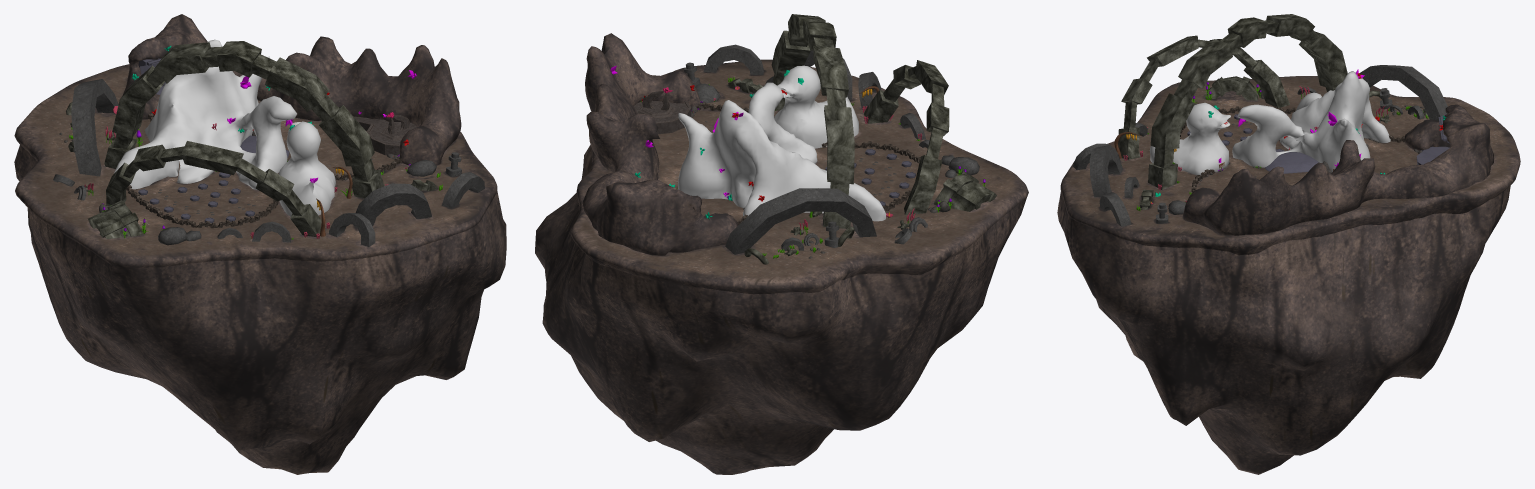
Rendered from scenaaa.fbx.
The picture shows the model from 3 angles, left to right: view 1: azimuth 30°, elevation 25°; view 2: azimuth 150°, elevation 25°; view 3: azimuth 270°, elevation 25°; orthographic projection. The views are drawn at different scales.
Parts seen in each view (by area): view 1: Plane.004, Plane.003, Cylinder.001, Duck, Mball.010, Cube.056, Circle.001, Circle.005; view 2: Plane.004, Plane.003, Cylinder.001, Mball.010, Duck, Cube.056, Circle.001, Circle.005; view 3: Plane.004, Plane.003, Cylinder.001, Mball.010, Duck, Cube.056, Circle.001, Circle.005.
Part boxes in pixels (x1,y1,x2,y2): Plane.004: (14, 145, 506, 474); Plane.003: (14, 64, 497, 268); Cylinder.001: (53, 41, 484, 247); Duck: (114, 39, 335, 216); Mball.010: (123, 14, 461, 165); Cube.056: (59, 45, 416, 228); Circle.001: (138, 58, 416, 157); Circle.005: (69, 106, 442, 239); Plane.004: (535, 145, 1027, 474); Plane.003: (570, 59, 1028, 294); Cylinder.001: (683, 14, 996, 264); Mball.010: (582, 33, 738, 255); Duck: (678, 65, 886, 221); Cube.056: (610, 65, 950, 258); Circle.001: (634, 87, 691, 134); Circle.005: (640, 77, 985, 258); Plane.004: (1057, 186, 1510, 474); Plane.003: (1060, 76, 1520, 255); Cylinder.001: (1073, 14, 1447, 226); Mball.010: (1183, 104, 1494, 235); Duck: (1149, 71, 1390, 175); Cube.056: (1155, 69, 1446, 196); Circle.001: (1265, 114, 1450, 173); Circle.005: (1114, 81, 1428, 210).
Size of the model in its own units: 14808 by 15298 by 15393.
